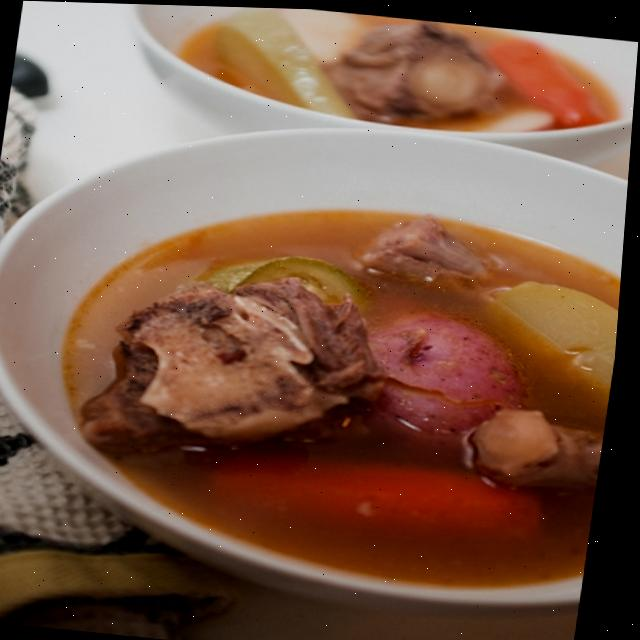汤锅炖物: (0, 87, 635, 622)
